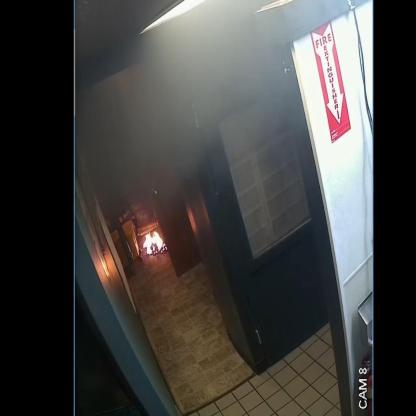fire: (143, 232, 163, 255)
